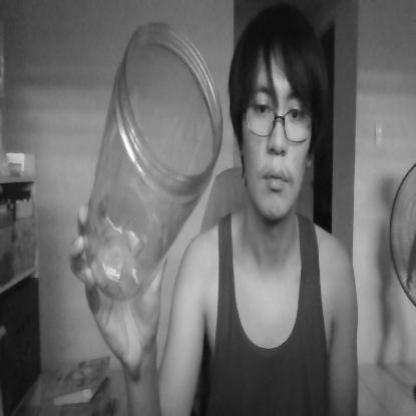Plastic Bottle: (83, 12, 229, 302)
